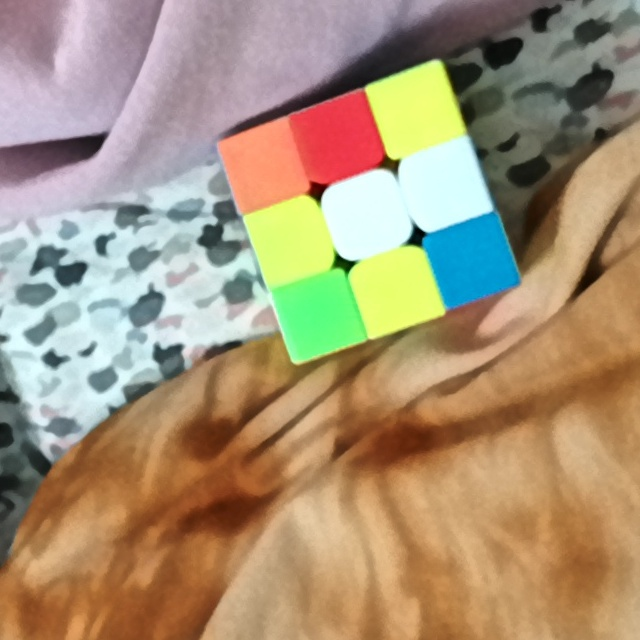tile: (285, 285, 348, 343), (384, 83, 447, 139), (309, 109, 367, 169), (336, 187, 397, 244), (260, 214, 321, 271), (417, 154, 474, 213), (235, 138, 293, 195), (445, 232, 503, 288), (366, 263, 427, 315)
